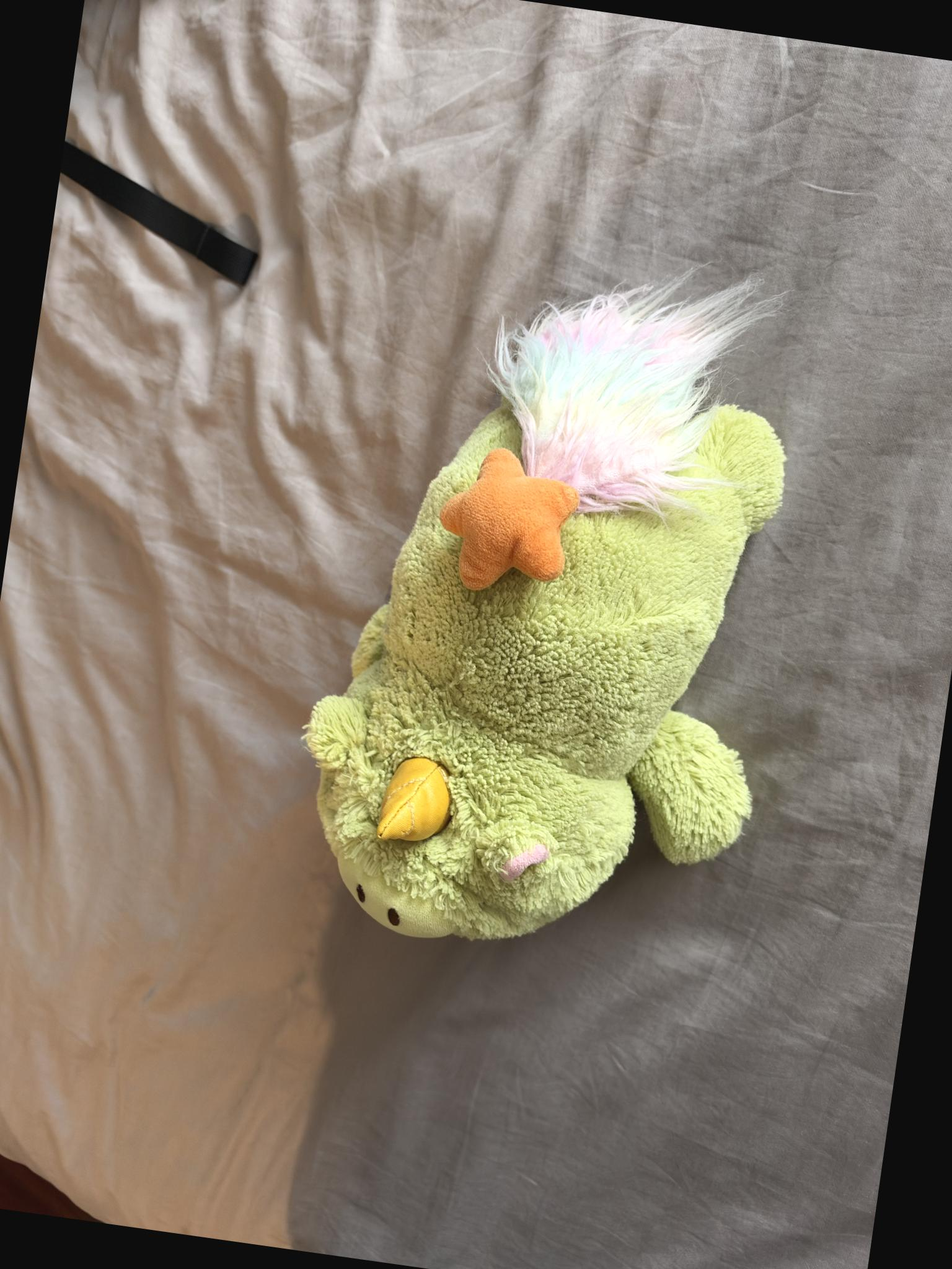peluche_martin: (273, 205, 832, 984)
